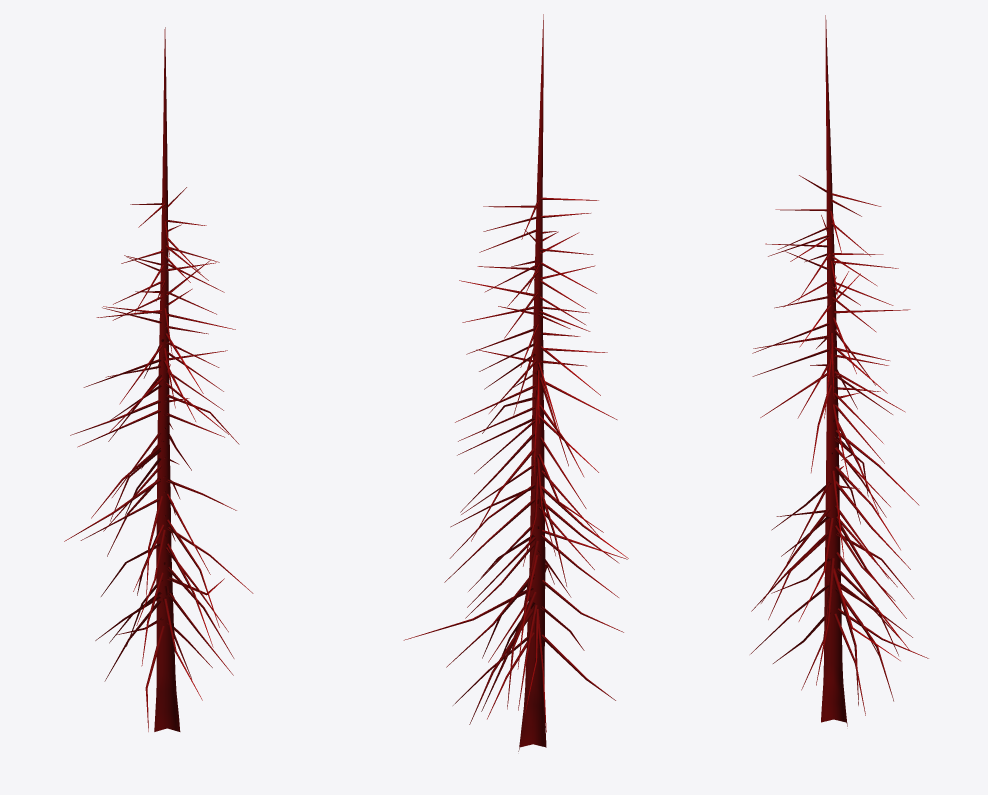
File: pine_c_lod2.glb
3 views of the same model, side by side, from view 1: azimuth 30°, elevation 25°; view 2: azimuth 150°, elevation 25°; view 3: azimuth 270°, elevation 25° (orthographic). The views are drawn at different scales.
Visible parts, largest first — view 1: pine_c_LOD2; view 2: pine_c_LOD2; view 3: pine_c_LOD2.
Boxes of the visible parts, x1,y1,x2,y2 form: pine_c_LOD2: (64, 27, 253, 731); pine_c_LOD2: (403, 14, 628, 751); pine_c_LOD2: (750, 15, 928, 726).
Bounding box in the file's own units: 7.64 × 20.61 × 7.07.
